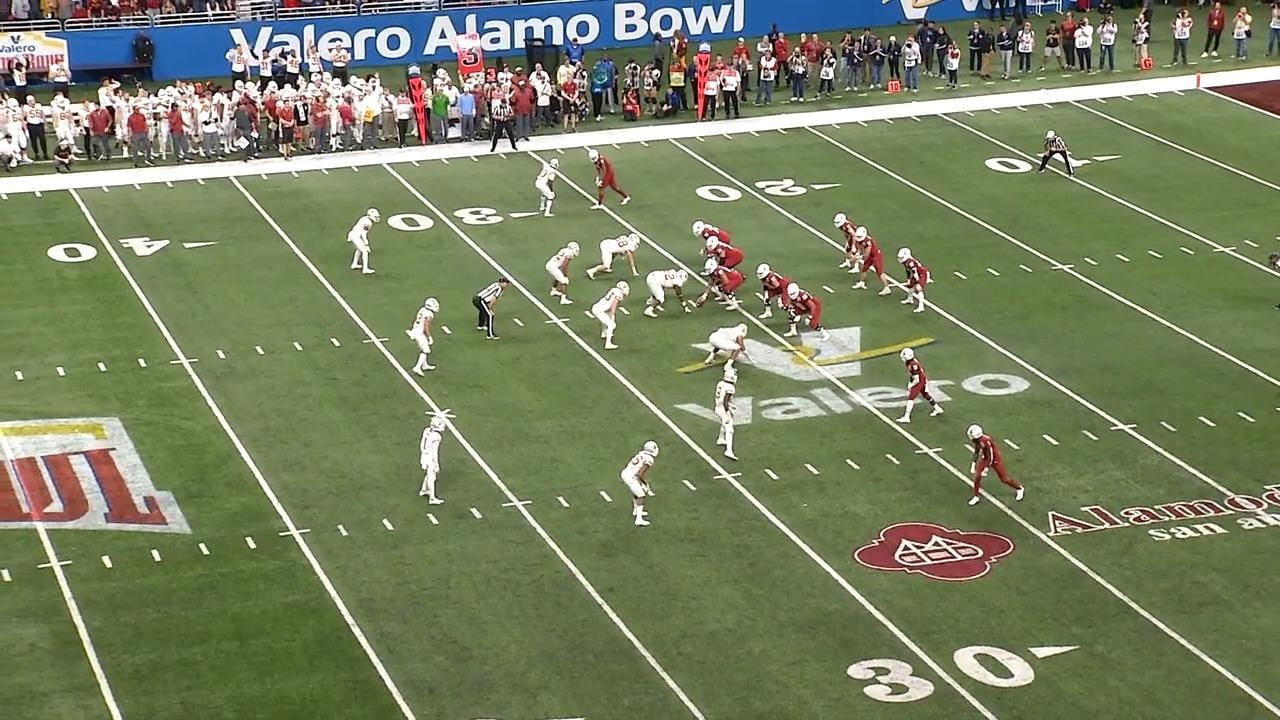10R: (984, 148, 1123, 176)
20R: (694, 177, 843, 201)
30R: (844, 644, 1082, 704), (386, 206, 543, 230)
40R: (47, 236, 219, 264)
